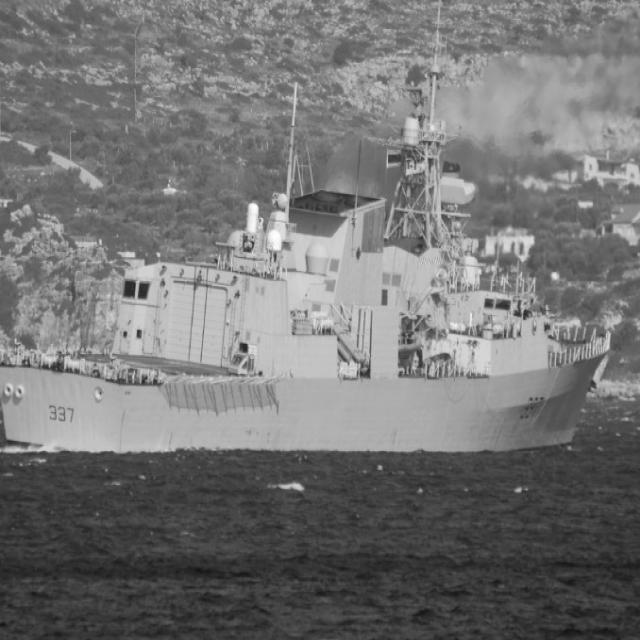Fragata: (1, 1, 615, 465)
